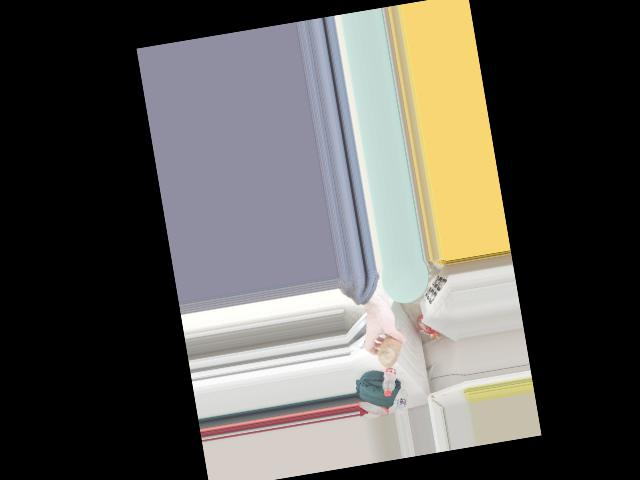sweet_potato: (371, 323, 410, 366)
